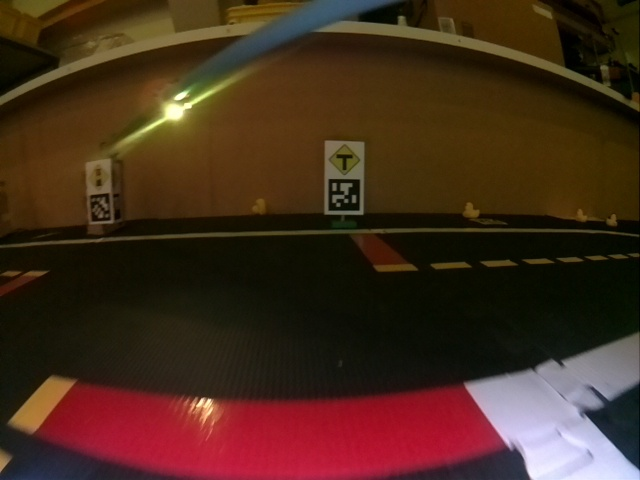Duckie: (463, 203, 480, 217), (254, 200, 266, 214), (576, 211, 586, 222), (607, 216, 617, 226)
Intersection sign: (326, 142, 363, 176)
QR code: (326, 179, 363, 214), (88, 196, 113, 221), (473, 217, 504, 226)
Signal sign: (86, 162, 111, 192)
